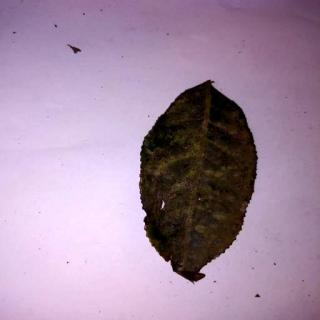Anthracnose: (141, 80, 261, 278)
